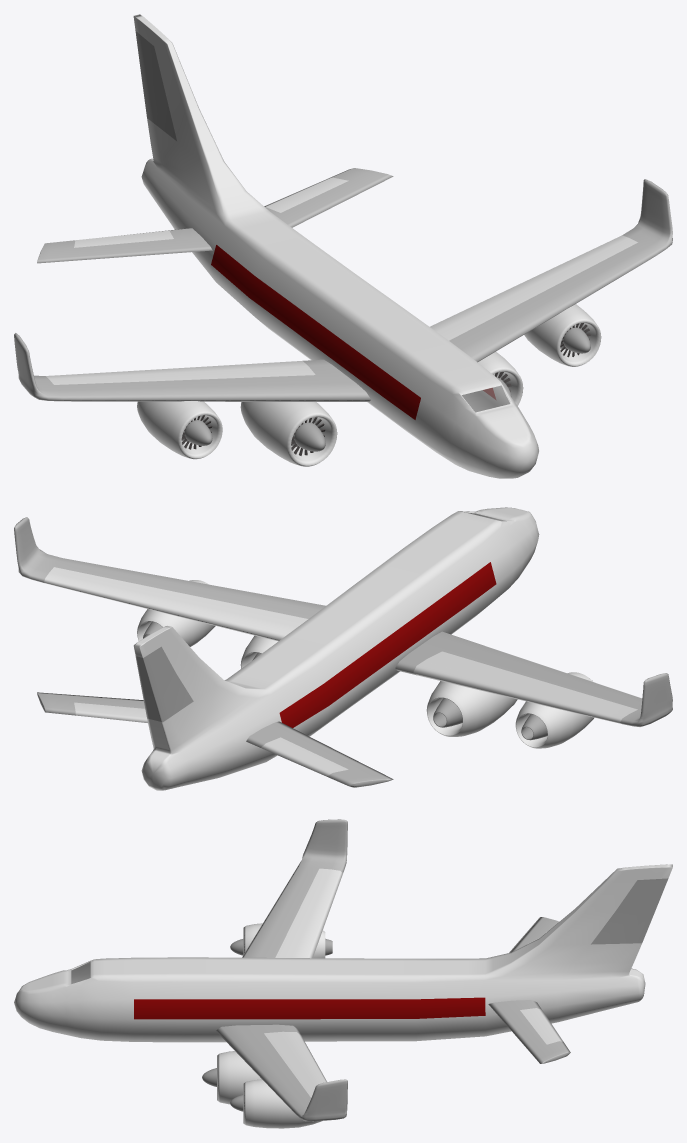
Rendered from Avion.fbx.
3 views of the same model, one above another, from view 1: azimuth 30°, elevation 25°; view 2: azimuth 150°, elevation 25°; view 3: azimuth 270°, elevation 25° (orthographic). The views are drawn at different scales.
Parts seen in each view (by area): view 1: pSphere1, pCube4, pCube3, pPipe1 (×4), pCube6, pCube5, pSphere3; view 2: pSphere1, pCube3, pCube4, pPipe1 (×4), pCube6, pCube5, pSphere3 (×2); view 3: pSphere1, pCube4, pCube3, pPipe1 (×3), pCube5, pCube6.
Part boxes in pixels (bbox=[...]): pSphere1: bbox=[133, 14, 538, 478]; pCube4: bbox=[14, 333, 370, 401]; pCube3: bbox=[430, 179, 672, 362]; pPipe1 (×4): bbox=[137, 304, 601, 466]; pCube6: bbox=[37, 228, 212, 263]; pCube5: bbox=[264, 168, 393, 227]; pSphere3: bbox=[291, 417, 325, 451]; pSphere1: bbox=[133, 507, 539, 790]; pCube3: bbox=[14, 517, 325, 641]; pCube4: bbox=[395, 631, 672, 726]; pPipe1 (×4): bbox=[137, 580, 594, 748]; pCube6: bbox=[246, 721, 393, 787]; pCube5: bbox=[37, 692, 147, 722]; pSphere3 (×2): bbox=[433, 698, 547, 740]; pSphere1: bbox=[14, 864, 672, 1042]; pCube4: bbox=[242, 819, 347, 958]; pCube3: bbox=[216, 1024, 347, 1121]; pPipe1 (×3): bbox=[217, 923, 325, 1128]; pCube5: bbox=[488, 1000, 570, 1063]; pCube6: bbox=[509, 917, 558, 952].
Size of the model in its own units: 542 by 190 by 570.
